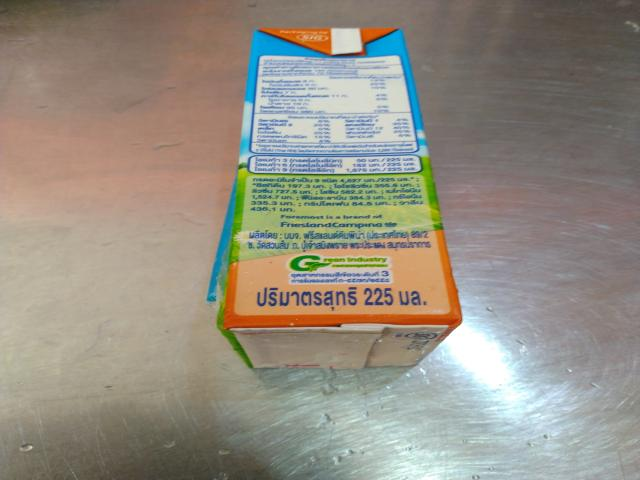drink_box: (193, 8, 495, 394)
